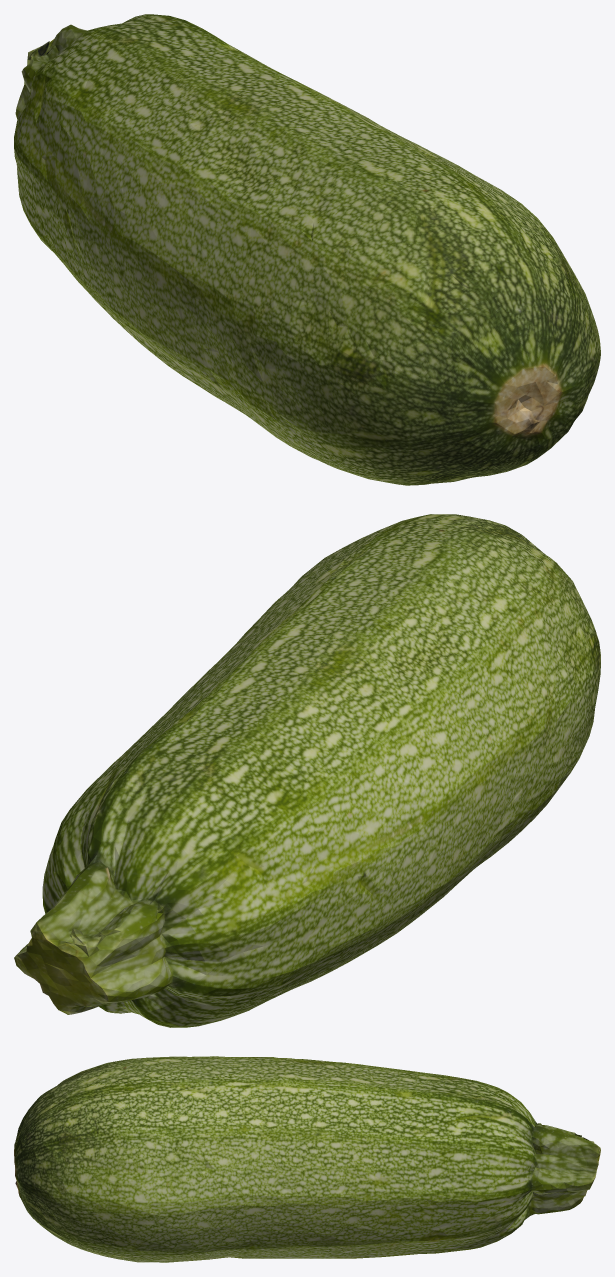
The model's file is CalabazaWeb.glb.
3 renders of one model, top to bottom at view 1: azimuth 30°, elevation 25°; view 2: azimuth 150°, elevation 25°; view 3: azimuth 270°, elevation 25°, orthographic. The views are drawn at different scales.
Visible parts, largest first — view 1: Captura1Feb2026_Model_2.001; view 2: Captura1Feb2026_Model_2.001; view 3: Captura1Feb2026_Model_2.001.
Boxes of the visible parts, bbox=[...] form: Captura1Feb2026_Model_2.001: bbox=[14, 14, 600, 485]; Captura1Feb2026_Model_2.001: bbox=[14, 514, 600, 1027]; Captura1Feb2026_Model_2.001: bbox=[14, 1056, 600, 1262].
Size of the model in its own units: 0.0446 by 0.0415 by 0.12.
1 material, 1 textured.
